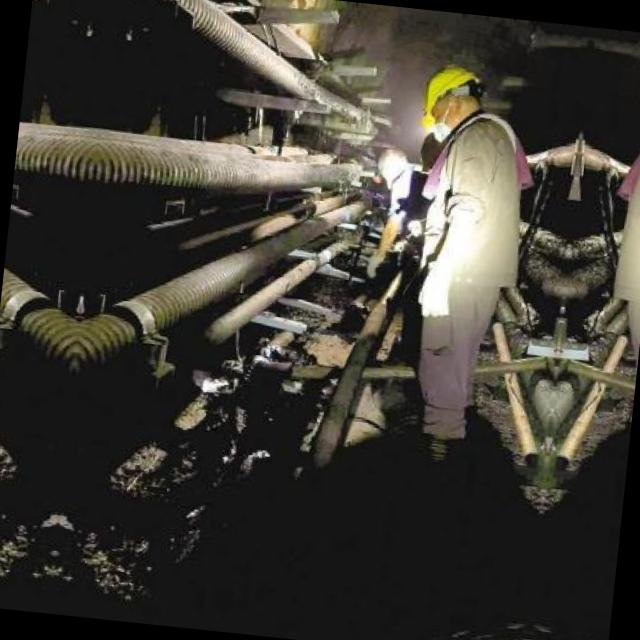helmet: (414, 58, 489, 148)
